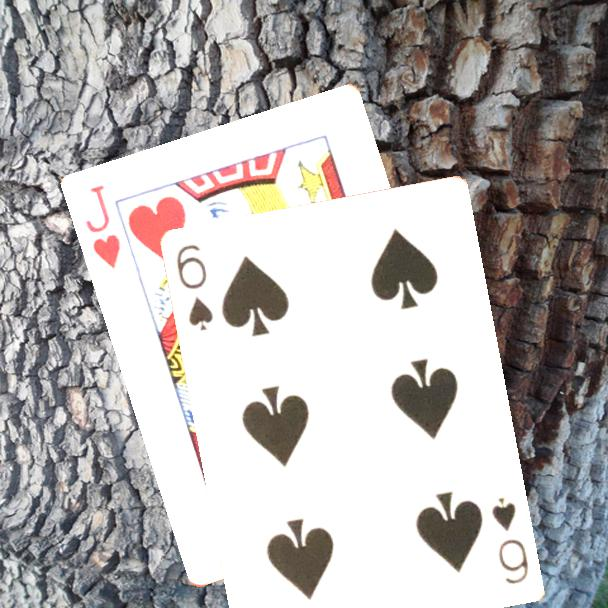h11: (83, 181, 124, 272)
s06: (488, 494, 532, 587), (173, 241, 217, 334)
